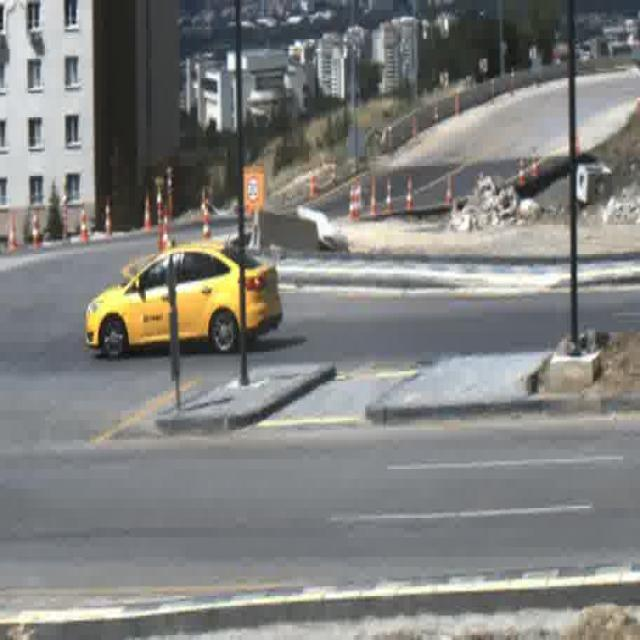Car: (84, 240, 282, 362)
